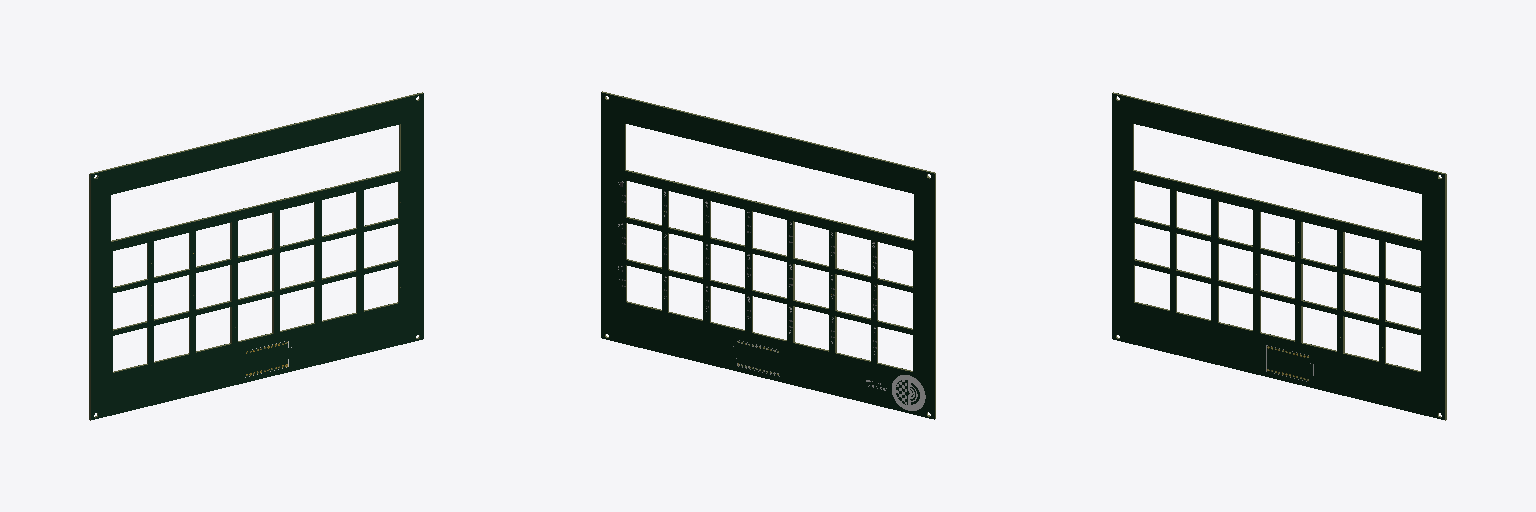
File: pcb.obj
The picture shows the model from 3 angles: view 1: azimuth 30°, elevation 25°; view 2: azimuth 150°, elevation 25°; view 3: azimuth 330°, elevation 25°; orthographic projection.
Parts seen in each view (by area): view 1: SHAPE_53_IndexedFaceSet, SHAPE_48_IndexedFaceSet; view 2: SHAPE_51_IndexedFaceSet, SHAPE_48_IndexedFaceSet, SHAPE_54_IndexedFaceSet; view 3: SHAPE_53_IndexedFaceSet, SHAPE_48_IndexedFaceSet.
Part boxes in pixels (left/top/right/bottom): SHAPE_53_IndexedFaceSet: left=91, top=93, right=423, bottom=419; SHAPE_48_IndexedFaceSet: left=89, top=92, right=422, bottom=420; SHAPE_51_IndexedFaceSet: left=601, top=92, right=934, bottom=419; SHAPE_48_IndexedFaceSet: left=602, top=91, right=935, bottom=418; SHAPE_54_IndexedFaceSet: left=618, top=182, right=925, bottom=410; SHAPE_53_IndexedFaceSet: left=1112, top=93, right=1444, bottom=419; SHAPE_48_IndexedFaceSet: left=1113, top=92, right=1446, bottom=420.
Size of the model in its own units: 235 by 166 by 3.17.